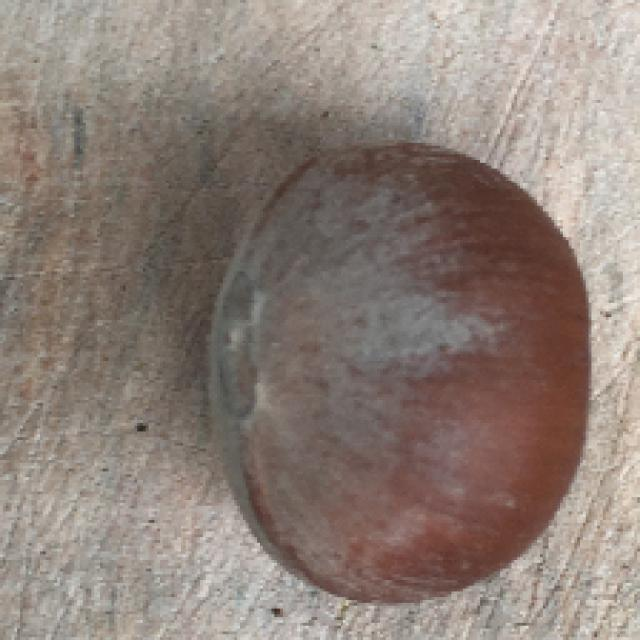qualityHazelnut: (203, 138, 592, 606)
